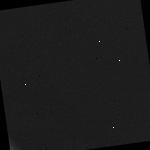colony: (7, 127, 34, 150)
